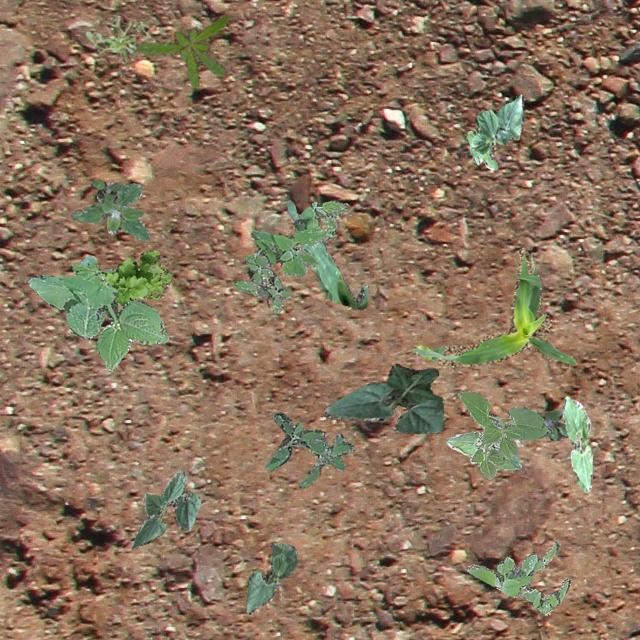crop: (410, 247, 576, 366), (446, 389, 552, 478), (286, 200, 368, 308), (323, 362, 442, 432), (130, 468, 200, 548), (466, 94, 522, 170), (246, 542, 296, 614), (562, 396, 592, 492)
weed: (28, 260, 168, 370), (232, 198, 348, 312), (464, 540, 570, 614), (134, 14, 230, 86), (264, 412, 352, 488), (70, 178, 148, 240), (54, 254, 116, 320), (100, 250, 170, 304), (84, 14, 150, 62), (518, 406, 568, 440)
